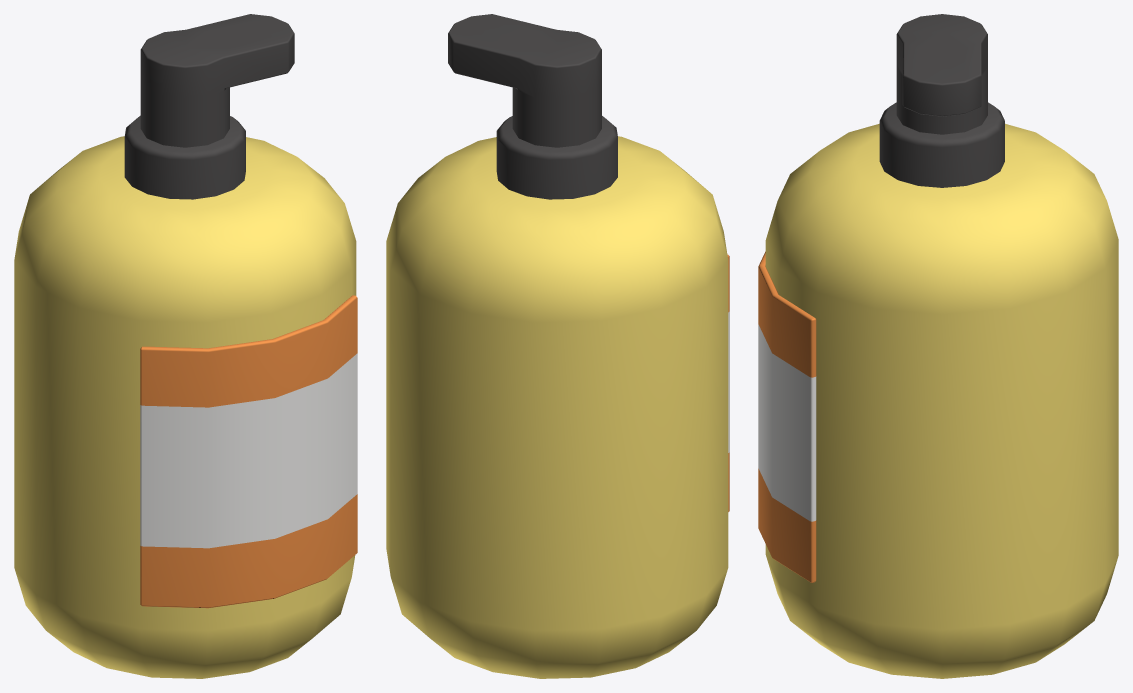
The model's file is Bottle_2.glb.
The picture shows the model from 3 angles, left to right: view 1: azimuth 30°, elevation 25°; view 2: azimuth 150°, elevation 25°; view 3: azimuth 270°, elevation 25°; orthographic projection. The views are drawn at different scales.
Visible parts, largest first — view 1: Bottle_22; view 2: Bottle_22; view 3: Bottle_22.
Part boxes in pixels (x1,y1,x2,y2): Bottle_22: (14, 14, 357, 678); Bottle_22: (386, 14, 729, 678); Bottle_22: (758, 14, 1118, 678).
Size of the model in its own units: 0.2032 by 0.3819 by 0.2076.
1 material, 1 textured.
